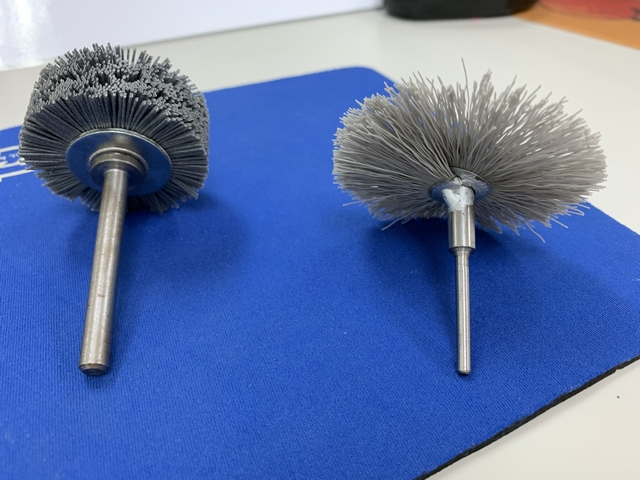TOOL: (325, 63, 611, 384), (330, 136, 611, 393), (387, 64, 570, 396)
Wheel Brush: (9, 41, 240, 392), (57, 39, 205, 385), (13, 41, 214, 235)
